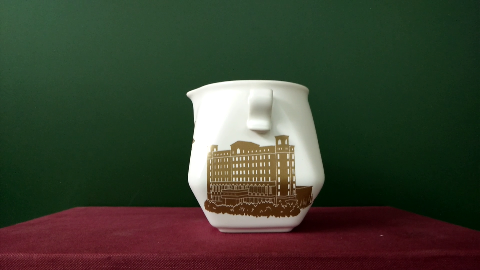law: (209, 149, 300, 213)
